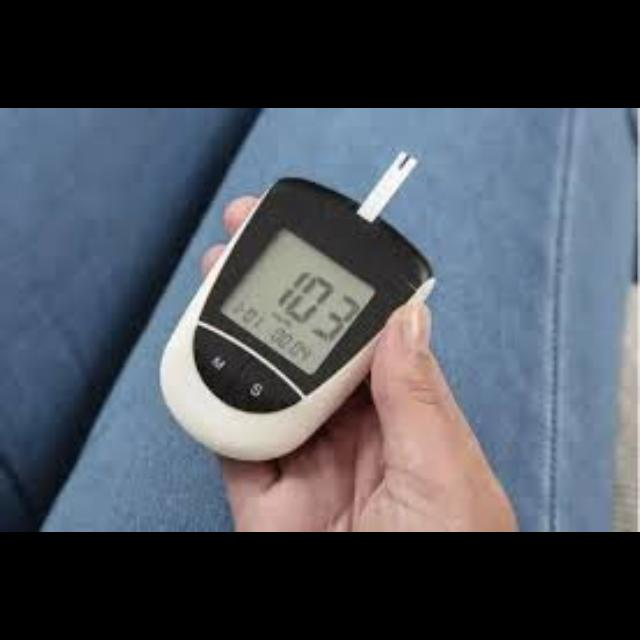Glucose-Meter: (161, 154, 434, 460)
